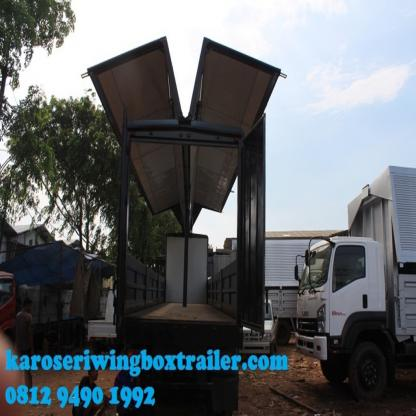Truck: (289, 224, 411, 394)
